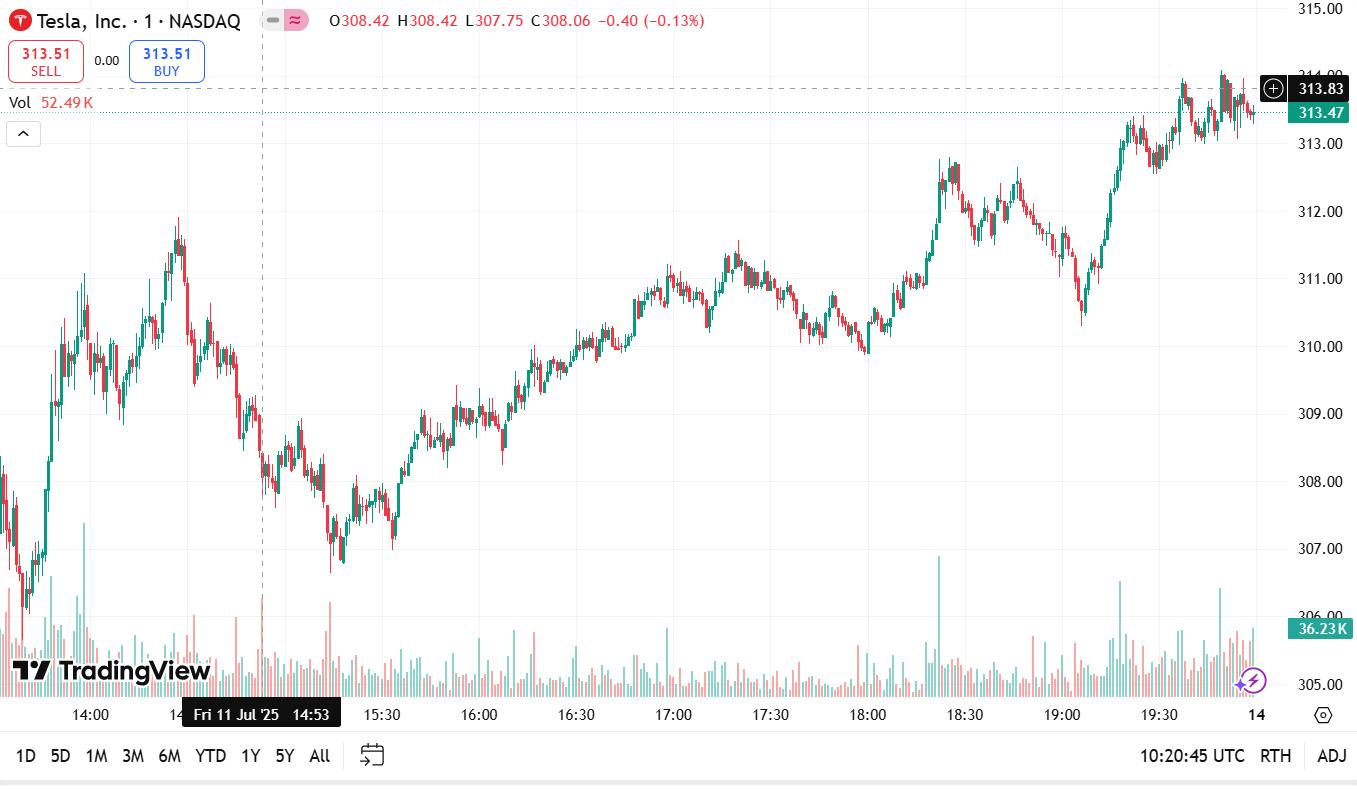Downtrend: (172, 222, 344, 568)
Sideways: (1175, 79, 1255, 138)
Uptrend: (390, 244, 746, 547), (1083, 84, 1190, 320), (857, 152, 959, 361), (27, 270, 87, 621)
